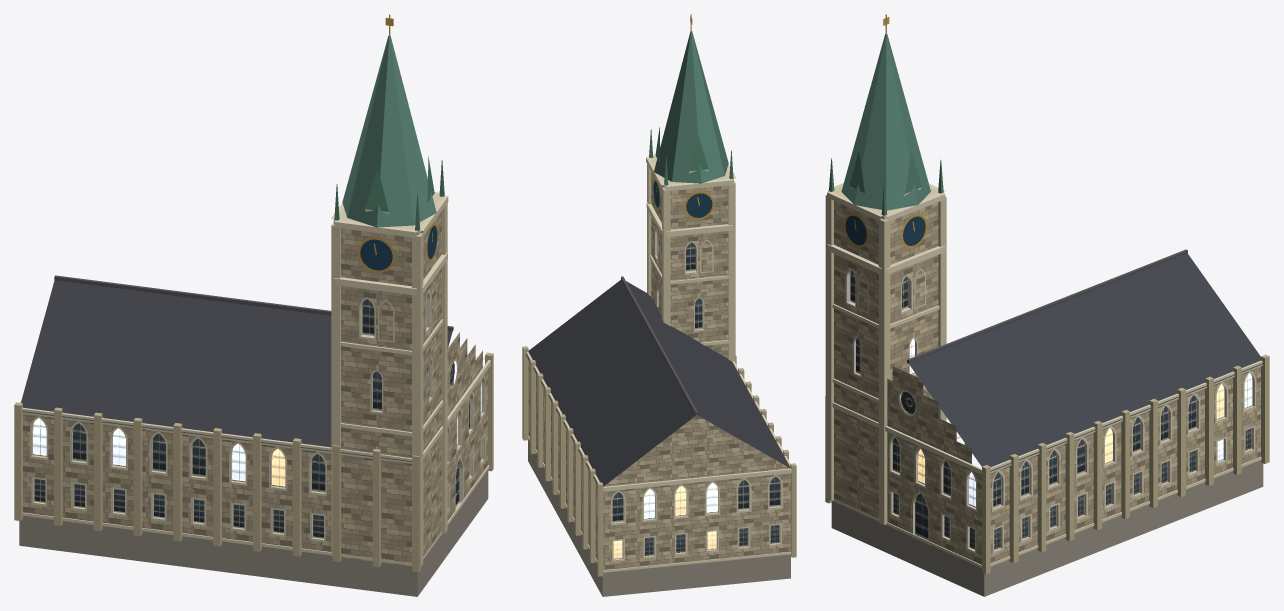
The model's file is st_jakob.glb.
3 renders of one model, left to right at view 1: azimuth 30°, elevation 25°; view 2: azimuth 150°, elevation 25°; view 3: azimuth 270°, elevation 25°, orthographic. The views are drawn at different scales.
Visible parts, largest first — view 1: st_jakob; view 2: st_jakob; view 3: st_jakob.
Boxes of the visible parts, left/top/right/bottom form: st_jakob: left=14, top=14, right=493, bottom=596; st_jakob: left=522, top=14, right=796, bottom=596; st_jakob: left=825, top=14, right=1269, bottom=596.
Bounding box in the file's own units: 53.13 × 69 × 54.01.
3 materials, 3 textured.
